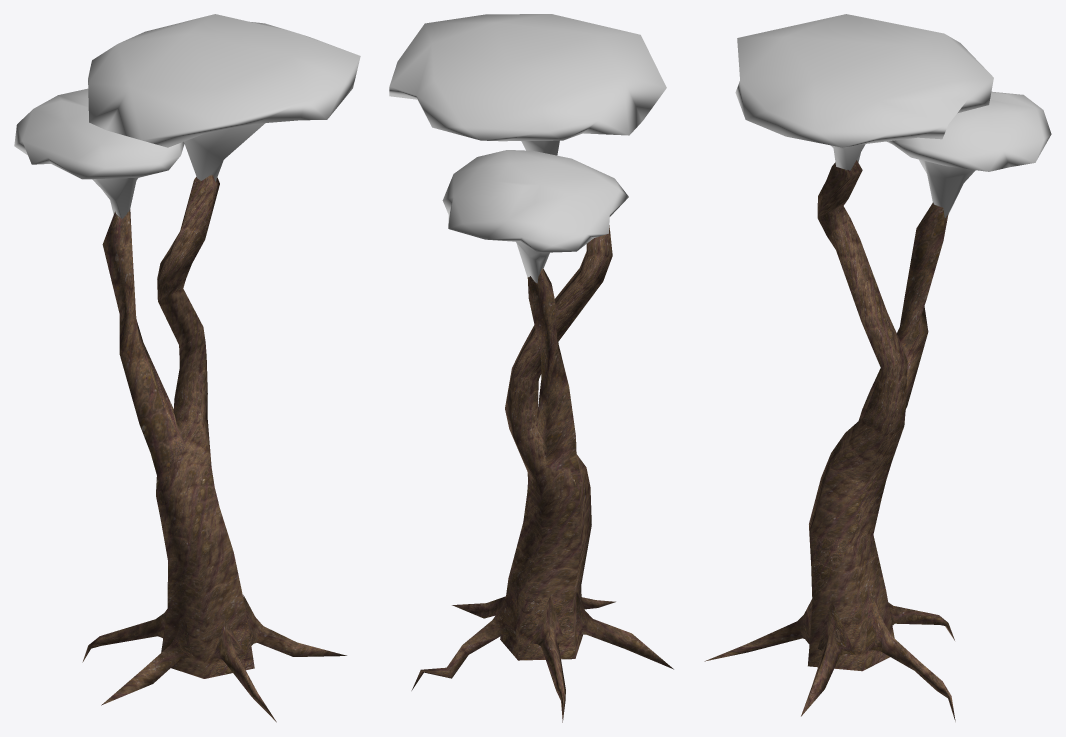
File: phys_Shroomtree1_2.fbx
The picture shows the model from 3 angles, left to right: view 1: azimuth 30°, elevation 25°; view 2: azimuth 150°, elevation 25°; view 3: azimuth 270°, elevation 25°; orthographic projection. The views are drawn at different scales.
Parts seen in each view (by area): view 1: polySurface109; view 2: polySurface109; view 3: polySurface109.
Part boxes in pixels (x1,y1,x2,y2): polySurface109: (14,14,360,722); polySurface109: (389,14,673,722); polySurface109: (704,14,1051,721).
Size of the model in its own units: 547 by 1272 by 626.
